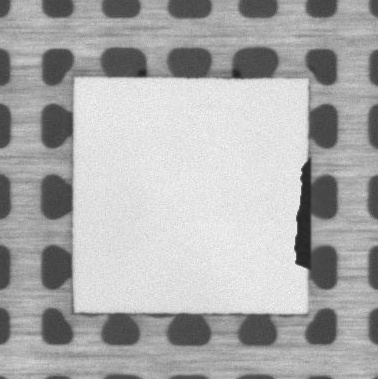DIE_BROKEN: (294, 158, 313, 274)
